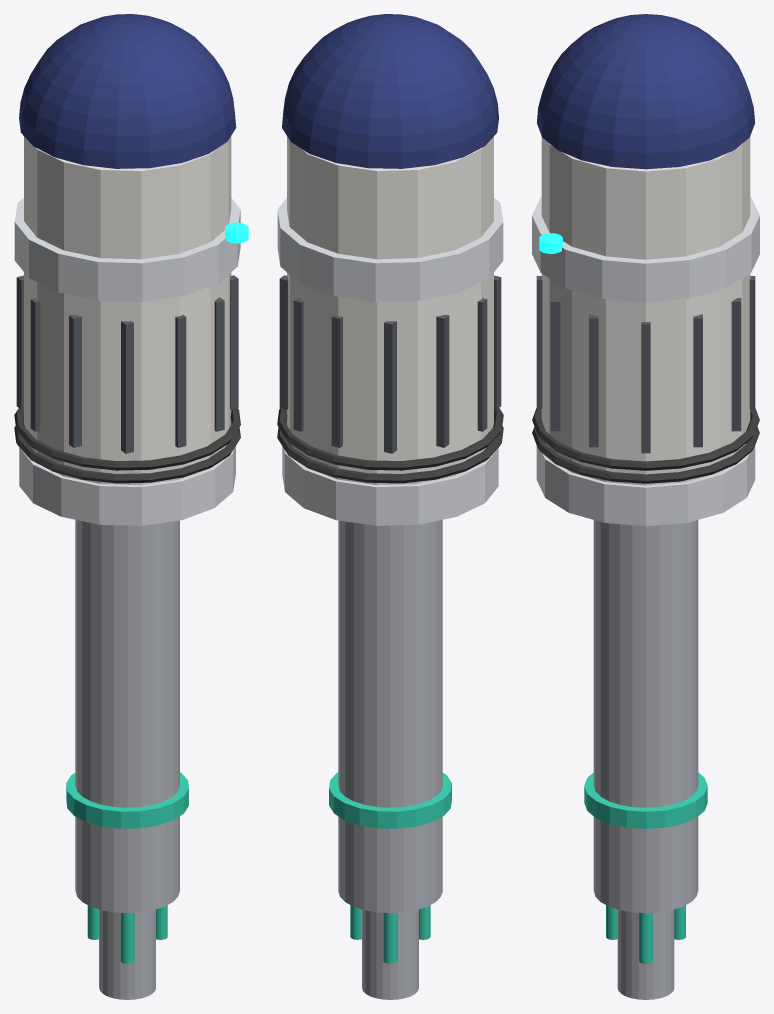
The model's file is soilnode.glb.
3 views of the same model, side by side, from view 1: azimuth 30°, elevation 25°; view 2: azimuth 150°, elevation 25°; view 3: azimuth 270°, elevation 25° (orthographic).
Parts seen in each view (by area): view 1: ABS_Housing, Steel_Probe, Solar_Dome_Cap, Housing_Rib_Band, Housing_Grip_Ribs, Threaded_Seal, Dual_O_Rings, Probe_Taper, Moisture_Ring_Sensor, NPK_Probe_120; view 2: ABS_Housing, Steel_Probe, Solar_Dome_Cap, Housing_Rib_Band, Housing_Grip_Ribs, Threaded_Seal, Dual_O_Rings, Probe_Taper, Moisture_Ring_Sensor, NPK_Probe_240; view 3: ABS_Housing, Steel_Probe, Solar_Dome_Cap, Housing_Rib_Band, Threaded_Seal, Housing_Grip_Ribs, Dual_O_Rings, Probe_Taper, Moisture_Ring_Sensor, NPK_Probe_0.
Part boxes in pixels (x1=…): ABS_Housing: x1=24, y1=136, x2=231, y2=485; Steel_Probe: x1=75, y1=520, x2=179, y2=913; Solar_Dome_Cap: x1=19, y1=14, x2=236, y2=168; Housing_Rib_Band: x1=14, y1=198, x2=240, y2=301; Housing_Grip_Ribs: x1=16, y1=275, x2=238, y2=453; Threaded_Seal: x1=19, y1=446, x2=235, y2=525; Dual_O_Rings: x1=14, y1=408, x2=240, y2=483; Probe_Taper: x1=99, y1=909, x2=155, y2=999; Moisture_Ring_Sensor: x1=66, y1=772, x2=188, y2=828; NPK_Probe_120: x1=120, y1=913, x2=134, y2=963; ABS_Housing: x1=287, y1=136, x2=493, y2=485; Steel_Probe: x1=338, y1=520, x2=442, y2=913; Solar_Dome_Cap: x1=282, y1=14, x2=498, y2=168; Housing_Rib_Band: x1=277, y1=198, x2=503, y2=301; Housing_Grip_Ribs: x1=279, y1=275, x2=501, y2=453; Threaded_Seal: x1=282, y1=446, x2=498, y2=525; Dual_O_Rings: x1=277, y1=408, x2=503, y2=483; Probe_Taper: x1=362, y1=909, x2=418, y2=999; Moisture_Ring_Sensor: x1=329, y1=772, x2=451, y2=828; NPK_Probe_240: x1=383, y1=913, x2=397, y2=963; ABS_Housing: x1=541, y1=137, x2=750, y2=485; Steel_Probe: x1=593, y1=520, x2=698, y2=913; Solar_Dome_Cap: x1=537, y1=14, x2=754, y2=169; Housing_Rib_Band: x1=532, y1=197, x2=759, y2=302; Threaded_Seal: x1=536, y1=446, x2=755, y2=526; Housing_Grip_Ribs: x1=536, y1=276, x2=755, y2=453; Dual_O_Rings: x1=532, y1=408, x2=759, y2=483; Probe_Taper: x1=617, y1=909, x2=674, y2=999; Moisture_Ring_Sensor: x1=584, y1=772, x2=707, y2=828; NPK_Probe_0: x1=639, y1=913, x2=652, y2=963.
Size of the model in its own units: 0.096 by 0.448 by 0.096.
